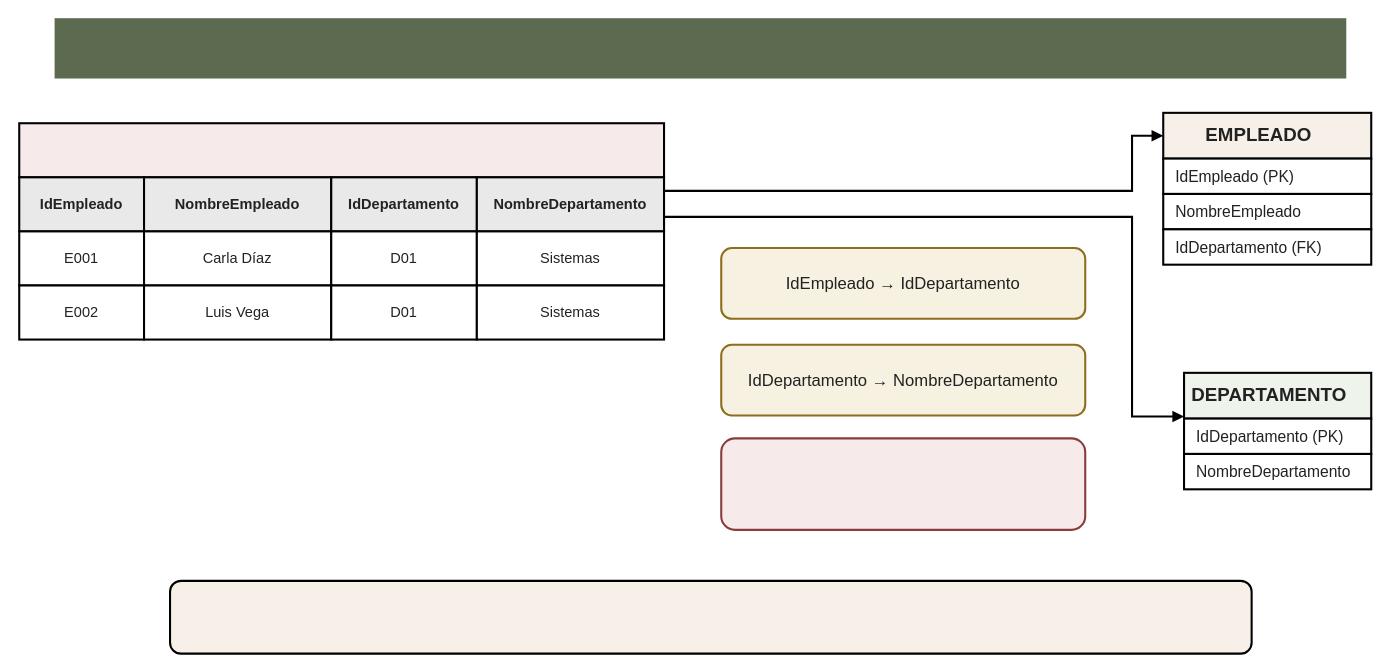
Image size: 1389x672. Some labels were removed from this diagram. Each missing label, with the box of its shape:
3FN = 2FN + ningún atributo no clave depende de otro atributo no clave.: (168, 579, 1252, 654)
EMPLEADO — ANTES: (18, 122, 665, 178)
IdEmpleado → NombreDepartamento Dependencia transitiva: (720, 437, 1086, 530)
Tercera Forma Normal (3FN): (54, 18, 1346, 78)
